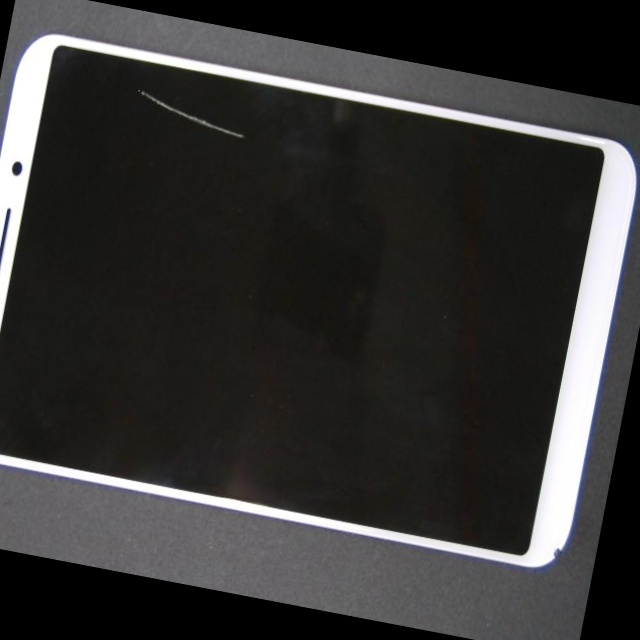scratch: (75, 14, 212, 134)
